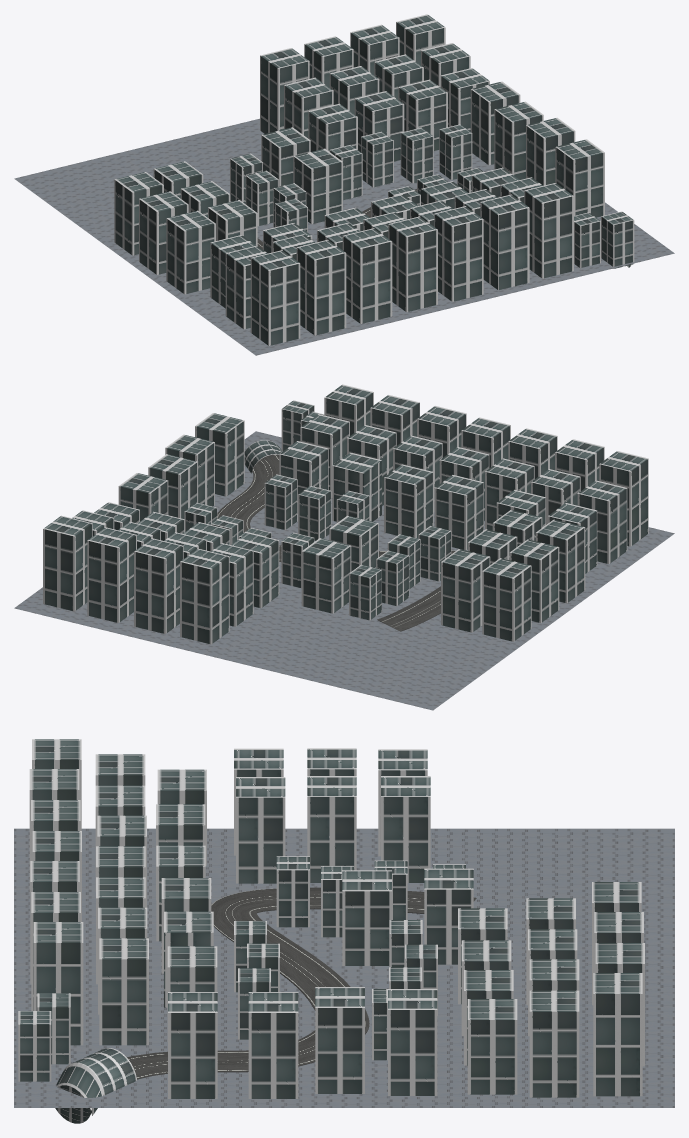
The picture shows the model from 3 angles, top to bottom: view 1: azimuth 30°, elevation 25°; view 2: azimuth 150°, elevation 25°; view 3: azimuth 270°, elevation 25°; orthographic projection. The views are drawn at different scales.
Visible parts, largest first — view 1: 平面, 立方体.039, 立方体.043, 立方体.045, 立方体, 立方体.013, 立方体.002, 立方体.010, 立方体.044, 立方体.029, 立方体.055, 立方体.024 (+43 smaller); view 2: 平面, 立方体.024, 立方体.031, 立方体.033, 立方体.021, 立方体.049, 立方体.047, 立方体.053, 立方体.003, NURBSパス.002, 立方体.014, 立方体.041 (+46 smaller); view 3: 平面, NURBSパス.002, 立方体.021, 立方体.025, 立方体.034, 立方体.006, 立方体.035, 立方体.029, 立方体.023, 立方体.050, 立方体.020, 立方体.055 (+47 smaller).
Part boxes in pixels (x1,y1,x2,y2): 平面: [14, 118, 674, 355]; 立方体.039: [250, 250, 300, 345]; 立方体.043: [296, 239, 346, 335]; 立方体.045: [342, 228, 392, 323]; 立方体: [480, 194, 529, 290]; 立方体.013: [388, 216, 437, 312]; 立方体.002: [434, 206, 483, 301]; 立方体.010: [524, 183, 573, 278]; 立方体.044: [166, 210, 215, 294]; 立方体.029: [555, 139, 604, 217]; 立方体.055: [293, 148, 342, 224]; 立方体.024: [260, 48, 309, 133]; 平面: [14, 431, 674, 710]; 立方体.024: [180, 548, 229, 644]; 立方体.031: [87, 527, 136, 622]; 立方体.033: [134, 538, 183, 633]; 立方体.021: [43, 515, 92, 611]; 立方体.049: [482, 558, 531, 641]; 立方体.047: [441, 549, 490, 632]; 立方体.053: [301, 538, 351, 613]; 立方体.003: [384, 464, 433, 538]; NURBSパス.002: [217, 454, 455, 631]; 立方体.014: [434, 475, 483, 550]; 立方体.041: [577, 480, 627, 563]; 平面: [14, 828, 674, 1107]; NURBSパス.002: [127, 887, 476, 1079]; 立方体.021: [593, 973, 642, 1096]; 立方体.025: [529, 990, 579, 1097]; 立方体.034: [248, 992, 298, 1098]; 立方体.006: [99, 938, 148, 1045]; 立方体.035: [315, 987, 364, 1093]; 立方体.029: [168, 992, 217, 1098]; 立方体.023: [388, 989, 437, 1095]; 立方体.050: [236, 777, 285, 883]; 立方体.020: [467, 999, 517, 1094]; 立方体.055: [342, 870, 391, 965].
Bounding box in the file's own units: 2000 × 443 × 2000.
3 materials, 3 textured.
